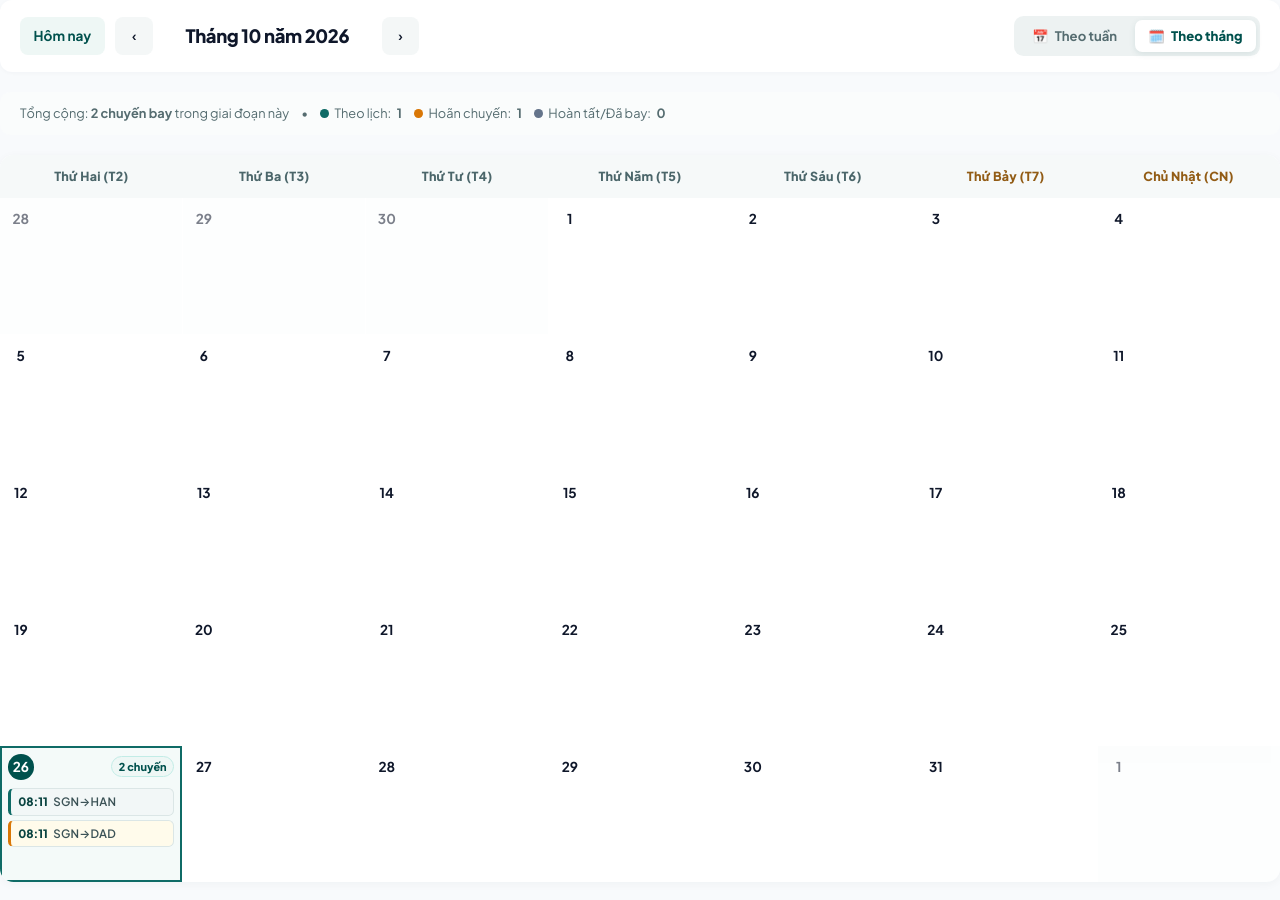
Test: FlightCalendarView component › opens Day Flights List Modal when clicking on a day with flights in Month View
Step 1. Click the text "2 chuyến" → point(143, 767), box [111, 756, 174, 778]
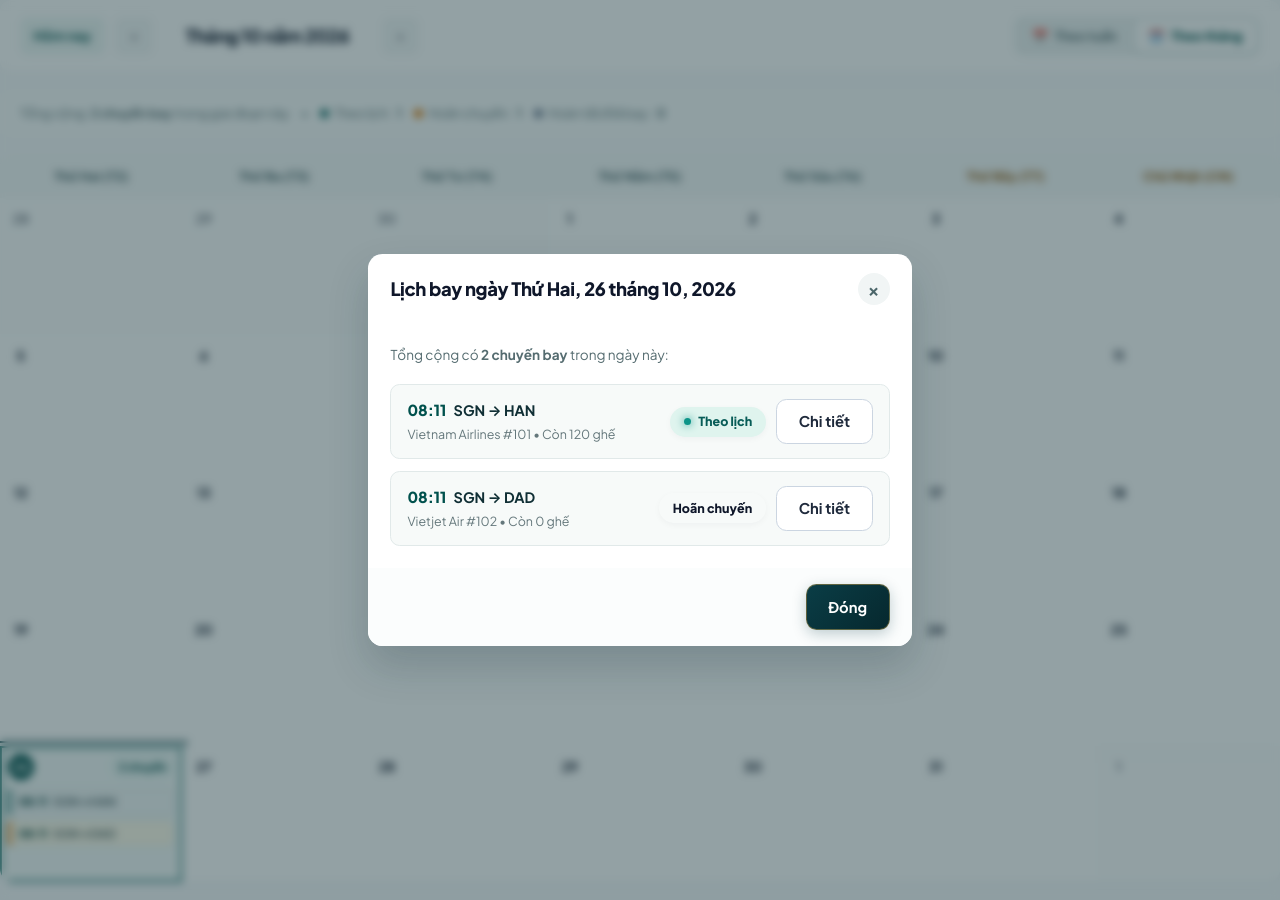
Expected: the heading "Lịch bay ngày Thứ Hai, 26 tháng 10, 2026" is shown, [390, 275, 736, 302]
Expected: the text "Tổng cộng có 2 chuyến bay trong ngày này:" is shown, [390, 346, 669, 363]
